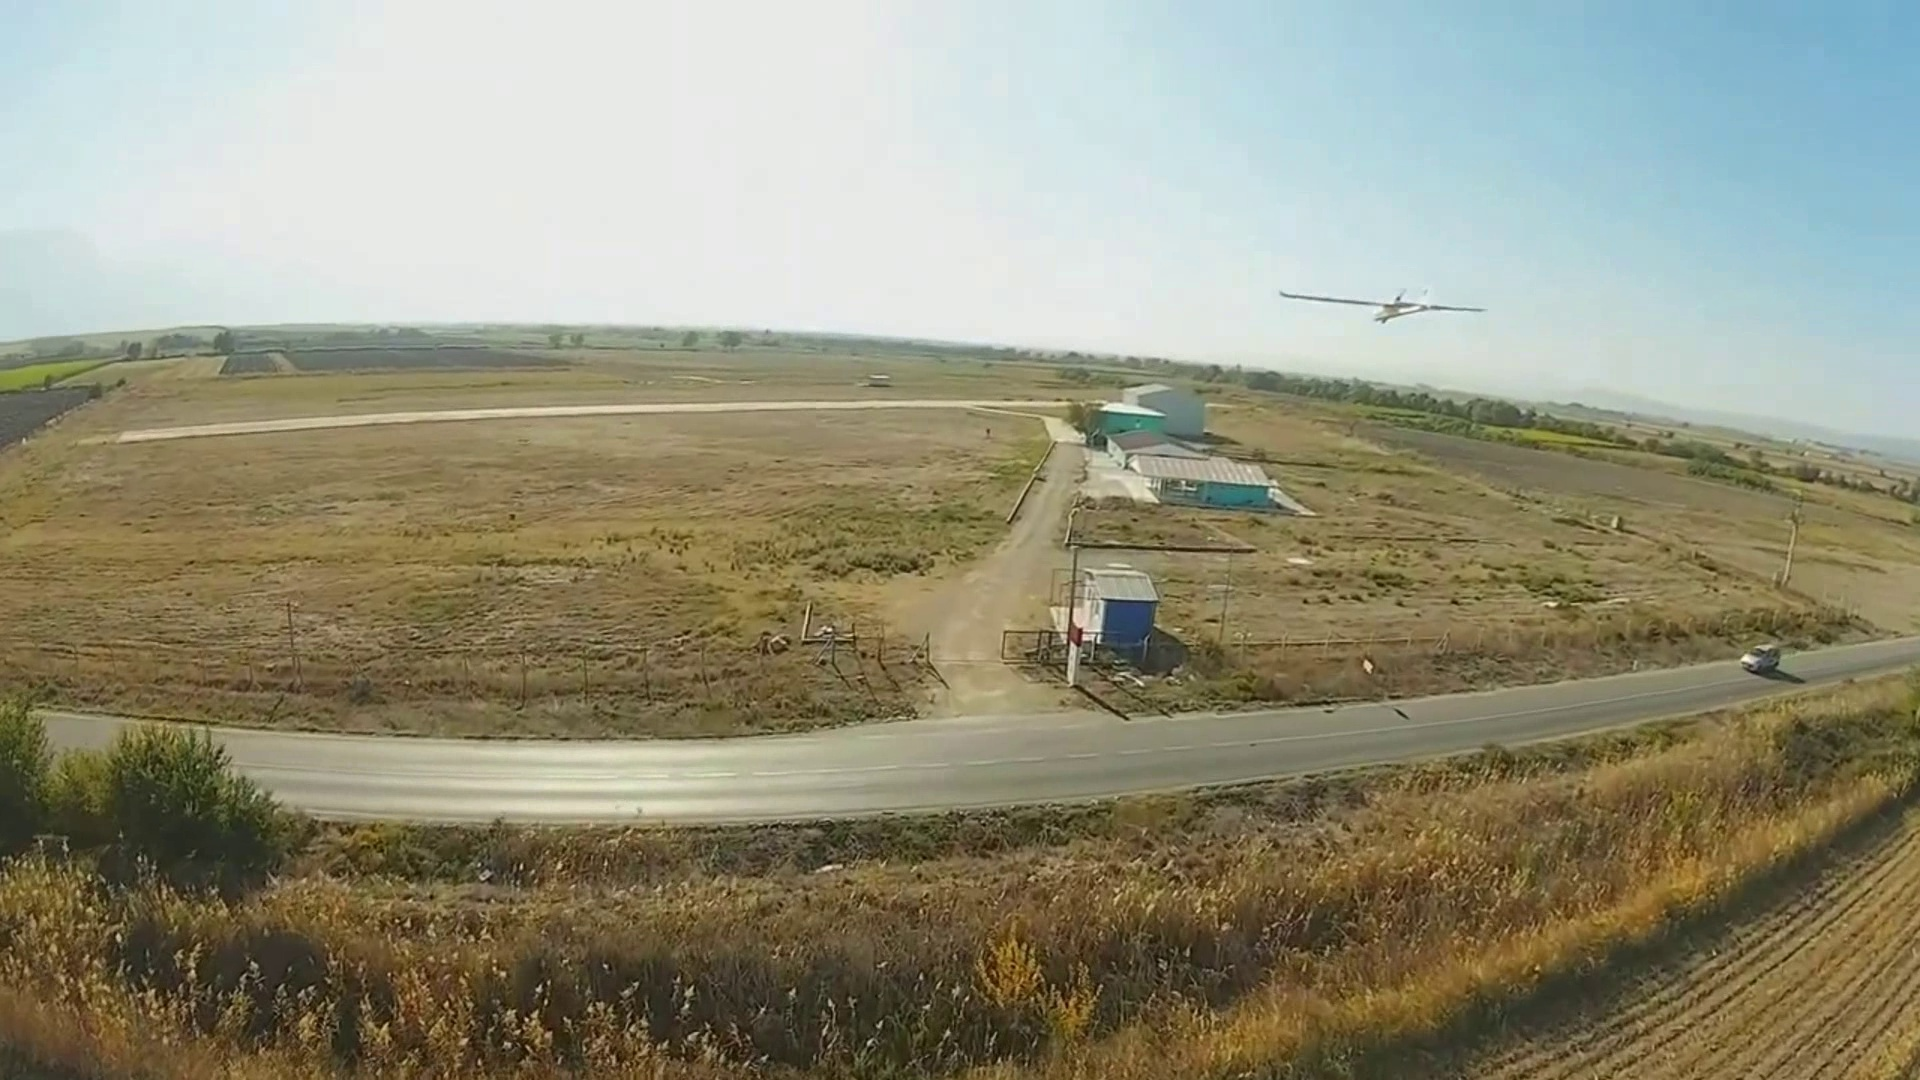airplane: (1274, 268, 1486, 326)
